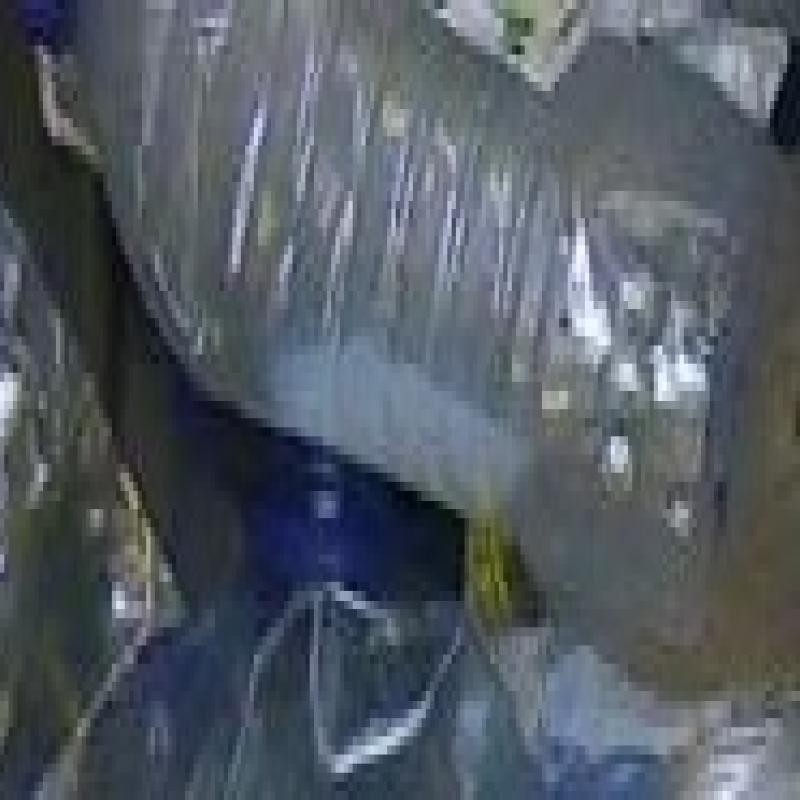botella: (29, 0, 760, 628)
